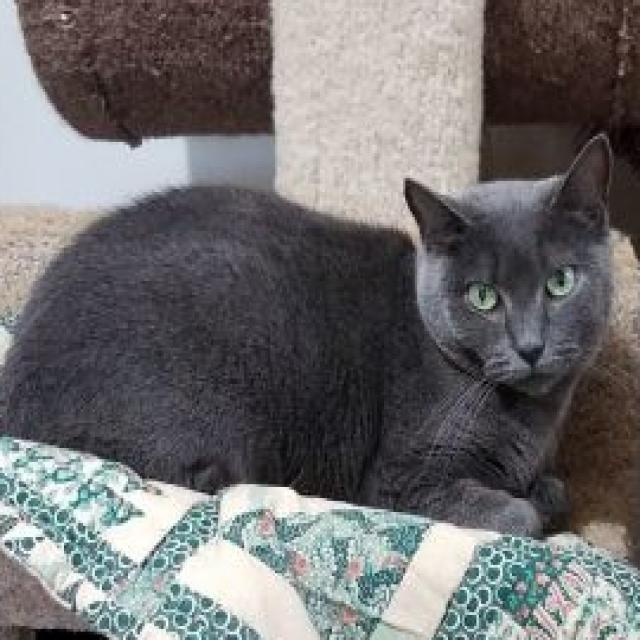Russian Blue: (0, 125, 616, 542)
